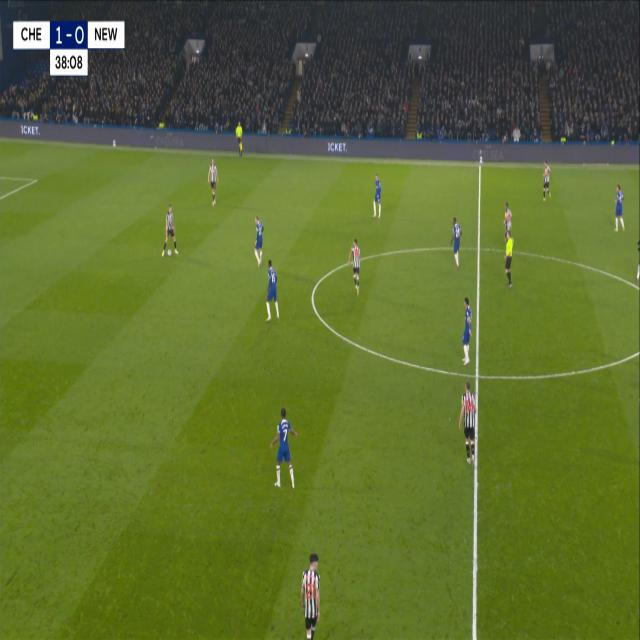Ball: (166, 248, 172, 256)
Chelsea: (268, 402, 300, 493), (262, 254, 282, 326), (460, 294, 474, 368), (611, 178, 627, 236), (251, 210, 267, 265), (450, 210, 463, 272), (371, 170, 385, 221)
New castle: (298, 550, 323, 638), (454, 378, 480, 462), (161, 200, 181, 262), (346, 236, 364, 298), (206, 156, 220, 207), (542, 154, 554, 202)
Refree: (503, 226, 515, 294)
